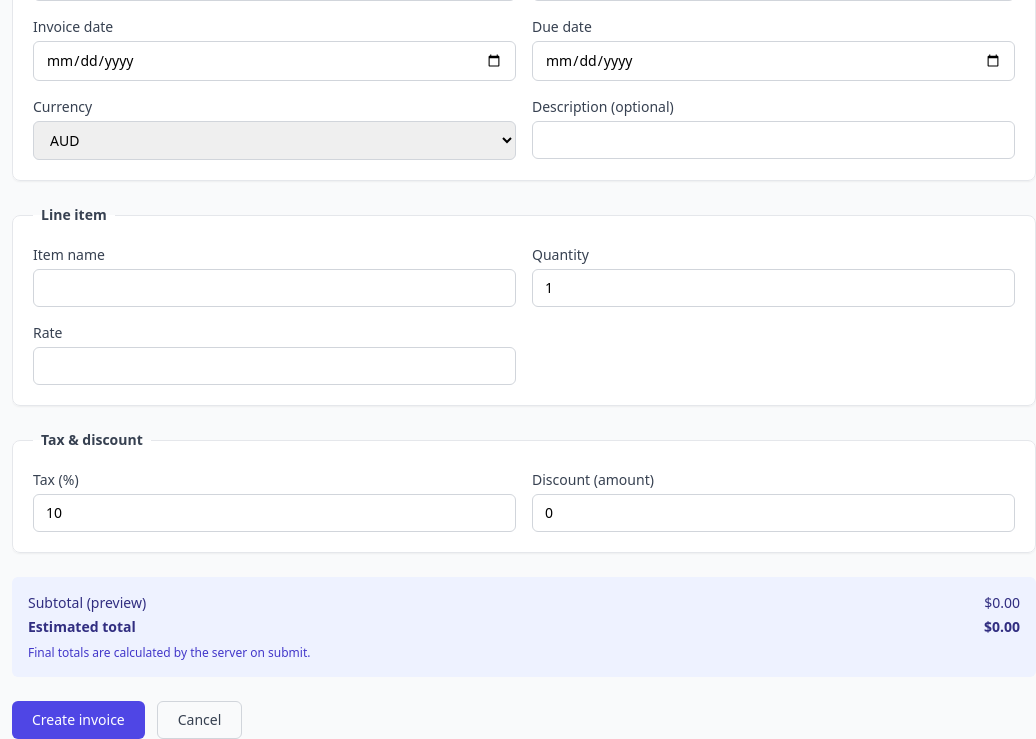
Test: CreateInvoicePage › shows a live total preview from quantity, rate, tax and discount
This screenshot has width=1036, height=739.
(page scrolled)
Type "1000" into the number field labelled "Rate" at (274, 366), box [33, 347, 516, 385]
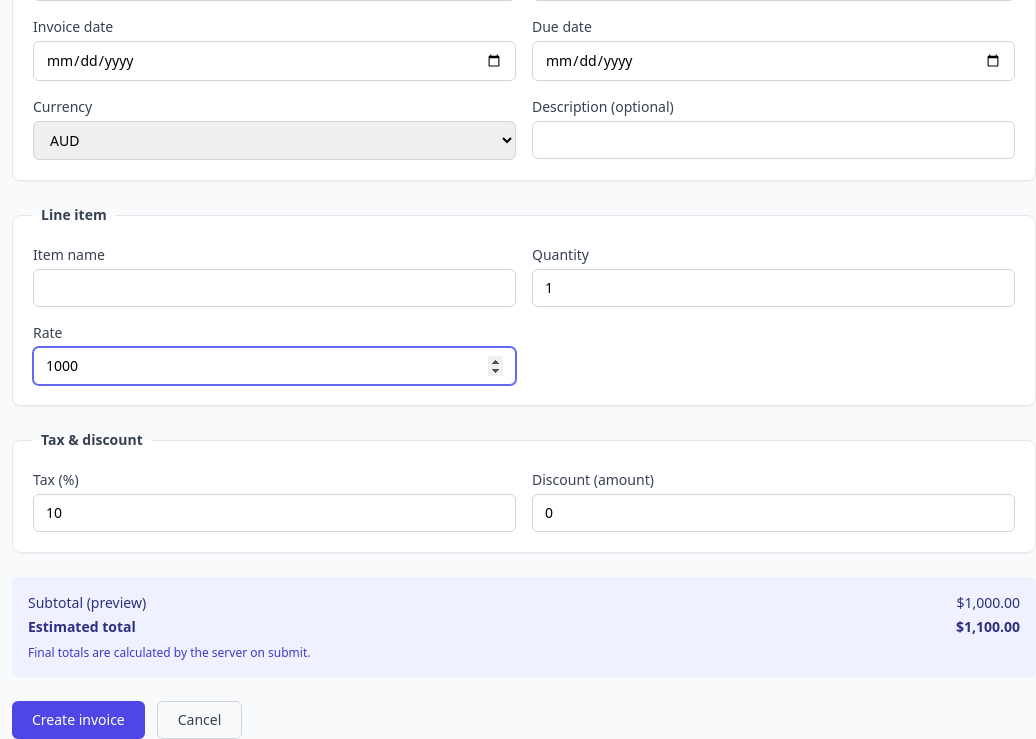
Result: the text "$1,100.00" is shown at [956, 617, 1020, 637]
